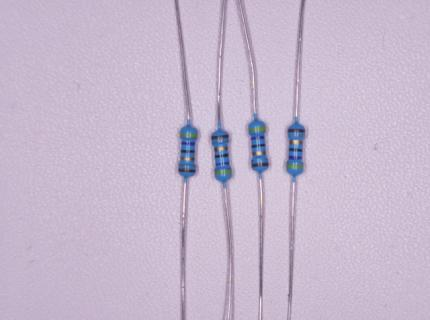Black band: (215, 153, 229, 158), (251, 144, 265, 148), (289, 148, 302, 152), (181, 150, 195, 153)
Brown band: (252, 162, 268, 168), (178, 168, 195, 172), (212, 135, 229, 139), (288, 129, 305, 133)
Gold band: (289, 140, 303, 145), (180, 157, 195, 161), (252, 151, 266, 155), (215, 147, 228, 151)
Violet band: (289, 155, 302, 160), (251, 136, 264, 140), (181, 142, 195, 145), (216, 162, 229, 165)
Yellow band: (214, 170, 232, 175), (180, 133, 197, 138), (249, 126, 265, 131), (287, 164, 303, 169)
